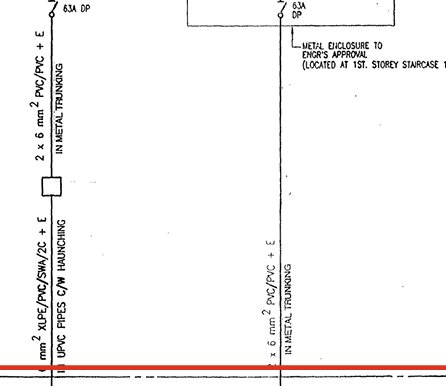Cable Termination Box: (37, 169, 69, 204)
